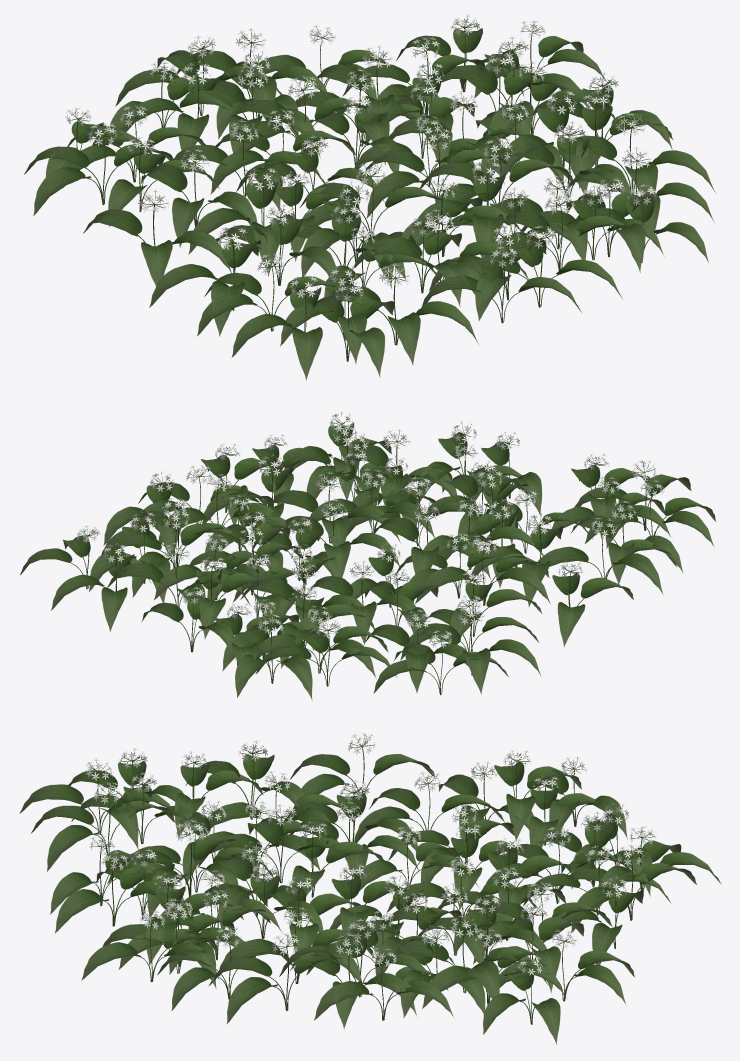
Rendered from cemaz_trop.gltf.
The picture shows the model from 3 angles, top to bottom: view 1: azimuth 30°, elevation 25°; view 2: azimuth 150°, elevation 25°; view 3: azimuth 270°, elevation 25°; orthographic projection. The views are drawn at different scales.
Parts seen in each view (by area): view 1: Cube.019, Cube.037, Cube.032, Cube.046, Cube.045, Cube.033, Cube.043, Cube.018, Cube.007, Cube.059, Cube.012, Cube.026 (+53 smaller); view 2: Cube.033, Cube.037, Cube.065, Cube.046, Cube.058, Cube.063, Cube.019, Cube.043, Cube.018, Cube.066, Cube.006, Cube.069 (+53 smaller); view 3: Cube.042, Cube.059, Cube.045, Cube.054, Cube.019, Cube.057, Cube.032, Cube.069, Cube.037, Cube.007, Cube.071, Cube.073 (+53 smaller).
Boxes of the visible parts, x1,y1,x2,y2 form: Cube.019: [83, 189, 231, 285]; Cube.037: [24, 123, 174, 215]; Cube.032: [140, 149, 257, 247]; Cube.046: [149, 225, 260, 336]; Cube.045: [329, 263, 478, 365]; Cube.033: [188, 166, 283, 276]; Cube.043: [231, 274, 322, 380]; Cube.018: [365, 128, 510, 218]; Cube.007: [352, 209, 528, 294]; Cube.059: [559, 112, 715, 198]; Cube.012: [499, 89, 593, 193]; Cube.026: [210, 109, 356, 194]; Cube.033: [415, 534, 550, 605]; Cube.037: [413, 605, 541, 694]; Cube.065: [235, 614, 312, 700]; Cube.046: [536, 517, 677, 595]; Cube.058: [268, 471, 400, 546]; Cube.063: [256, 605, 388, 678]; Cube.019: [552, 561, 633, 646]; Cube.043: [584, 479, 716, 546]; Cube.018: [278, 498, 400, 577]; Cube.066: [240, 559, 374, 650]; Cube.006: [470, 513, 562, 607]; Cube.069: [108, 508, 223, 597]; Cube.042: [19, 758, 170, 849]; Cube.059: [209, 933, 342, 1024]; Cube.045: [31, 782, 175, 871]; Cube.054: [54, 851, 193, 933]; Cube.019: [289, 733, 434, 805]; Cube.057: [219, 906, 374, 984]; Cube.032: [354, 771, 504, 842]; Cube.069: [395, 915, 548, 998]; Cube.037: [494, 750, 581, 841]; Cube.007: [107, 820, 235, 917]; Cube.071: [483, 954, 560, 1044]; Cube.073: [422, 928, 566, 1008].
Size of the model in its own units: 2.68 by 0.3458 by 2.92.
Materials: 4 (2 with a texture image).
